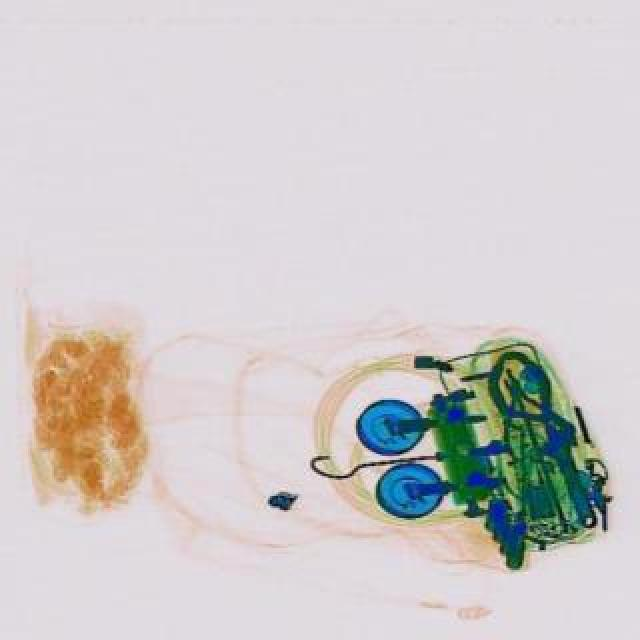scissors: (530, 412, 610, 534)
wrench: (476, 360, 578, 464)
